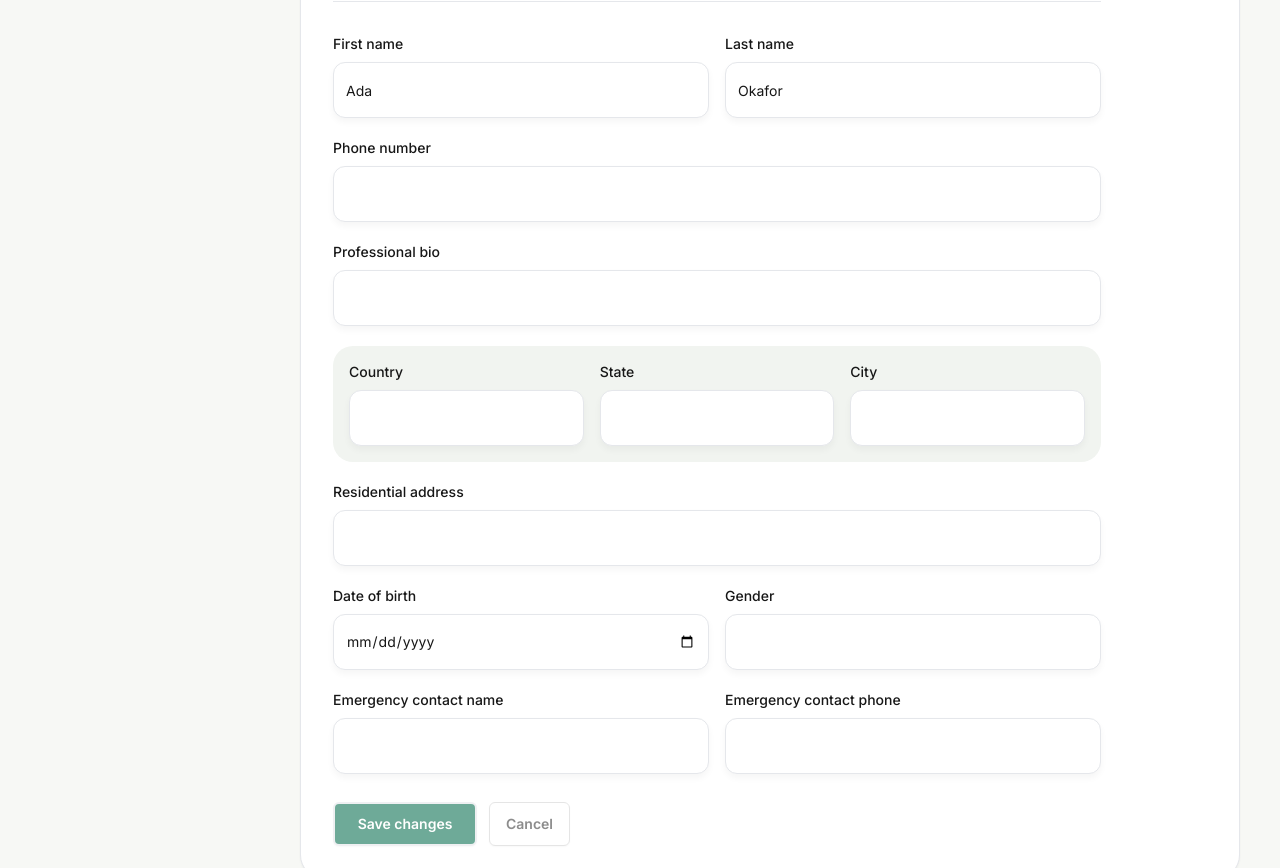
Test: ProfilePage › updates profile details, refreshes auth state, and disables save after success
(page scrolled)
Type "Lagos" into the field labelled "City" at (968, 418), box [850, 390, 1085, 446]
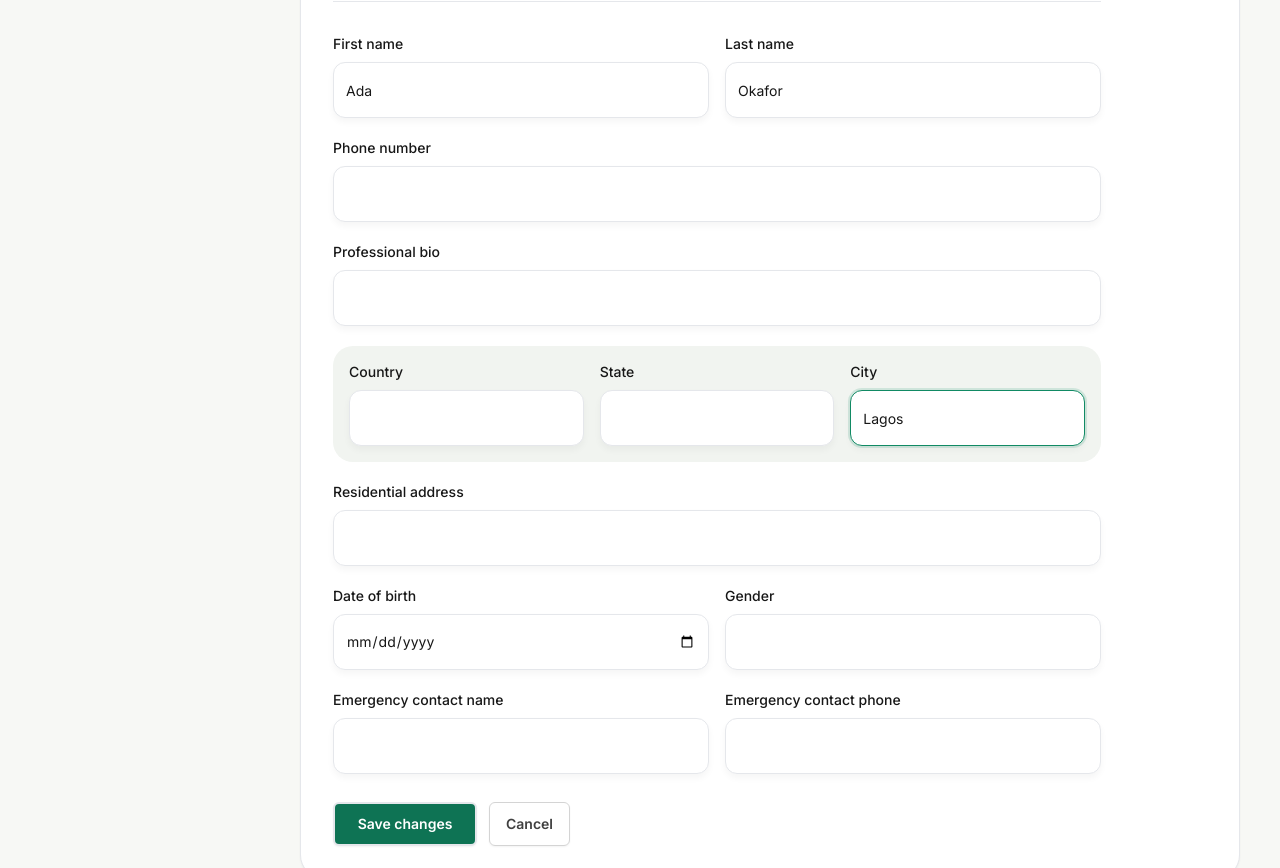
Click the button "Save changes" at (405, 824), box [333, 802, 477, 846]
(page scrolled)
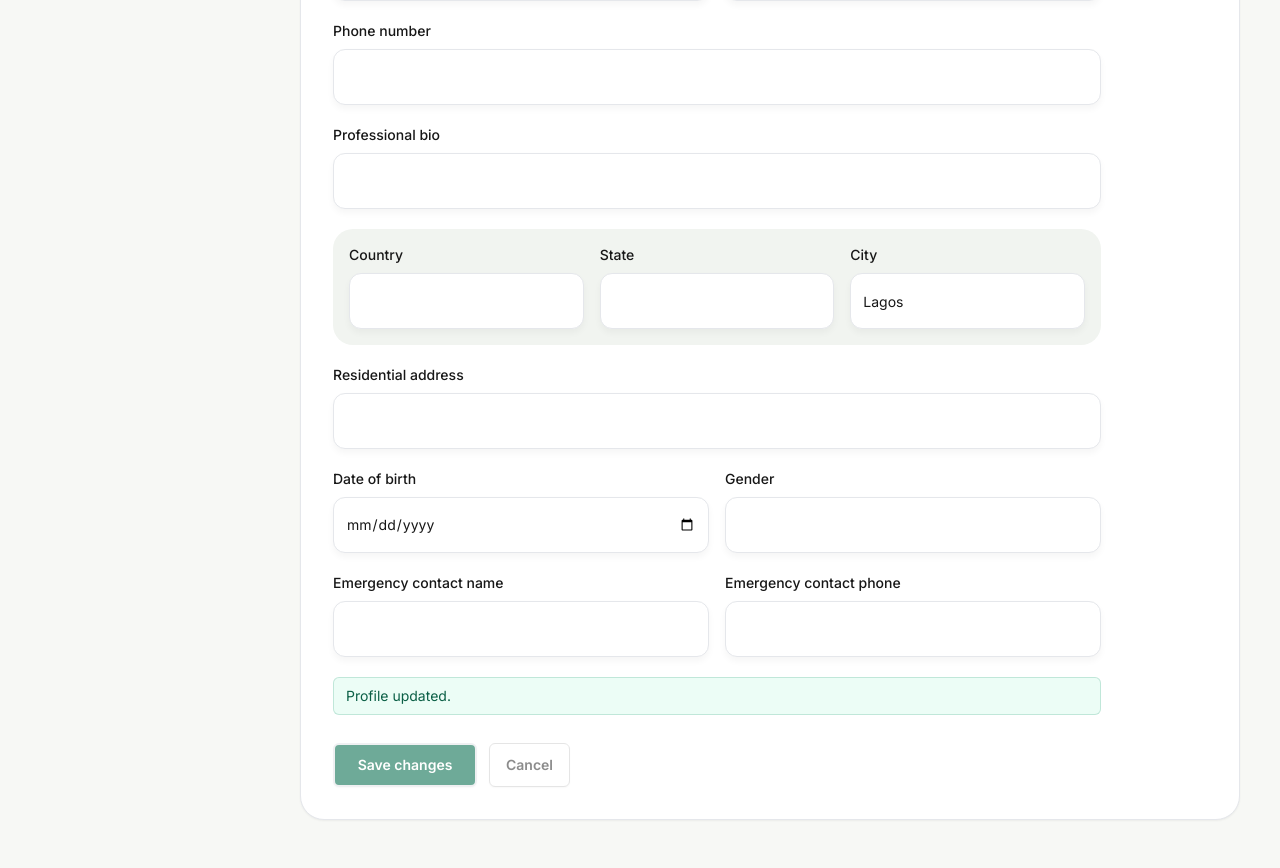
Now the text "Profile updated." is shown, box [333, 677, 1101, 715]
Now the button "Save changes" is disabled, box [333, 743, 477, 787]
